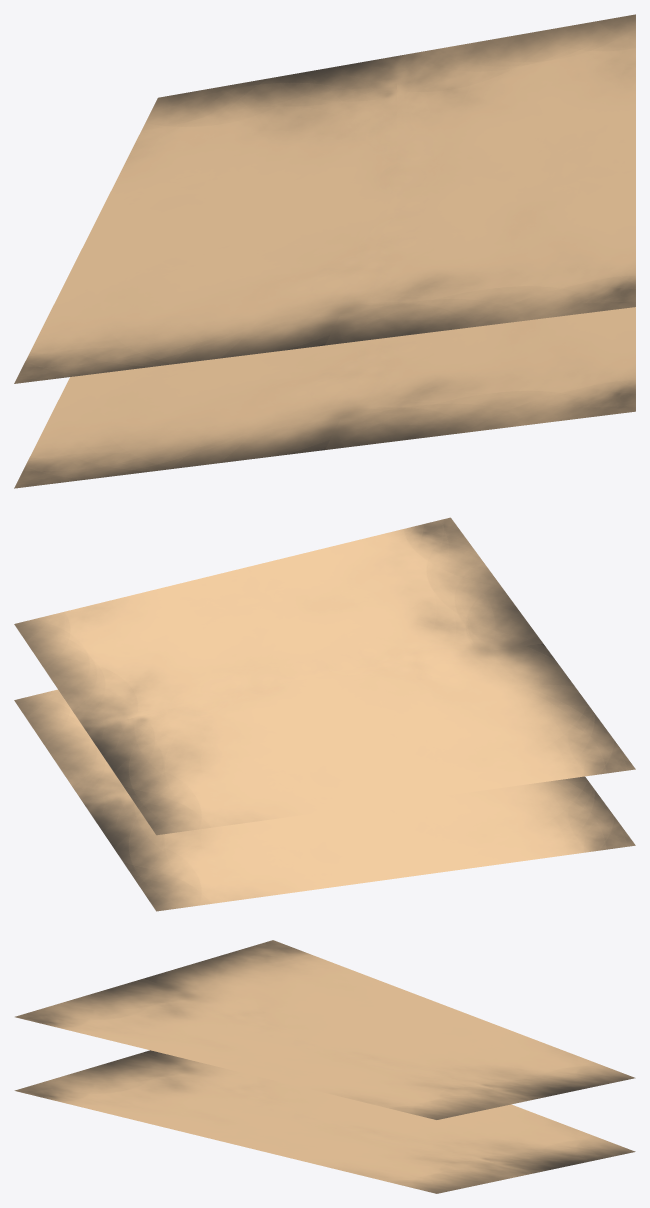
File: CourseSummer_CurveFloor_5_5.fbx
3 renders of one model, top to bottom at view 1: azimuth 30°, elevation 25°; view 2: azimuth 150°, elevation 25°; view 3: azimuth 270°, elevation 25°, orthographic. The views are drawn at different scales.
Parts seen in each view (by area): view 1: polySurface206, polySurface214; view 2: polySurface206, polySurface214; view 3: polySurface206, polySurface214.
Boxes of the visible parts, x1,y1,x2,y2 form: polySurface206: [14, 14, 635, 383]; polySurface214: [14, 307, 635, 488]; polySurface206: [14, 517, 635, 835]; polySurface214: [14, 689, 635, 911]; polySurface206: [15, 940, 635, 1119]; polySurface214: [14, 1050, 635, 1193].
Bounding box in the file's own units: 7.38 × 2 × 7.64.
Materials: 1 (1 with a texture image).
